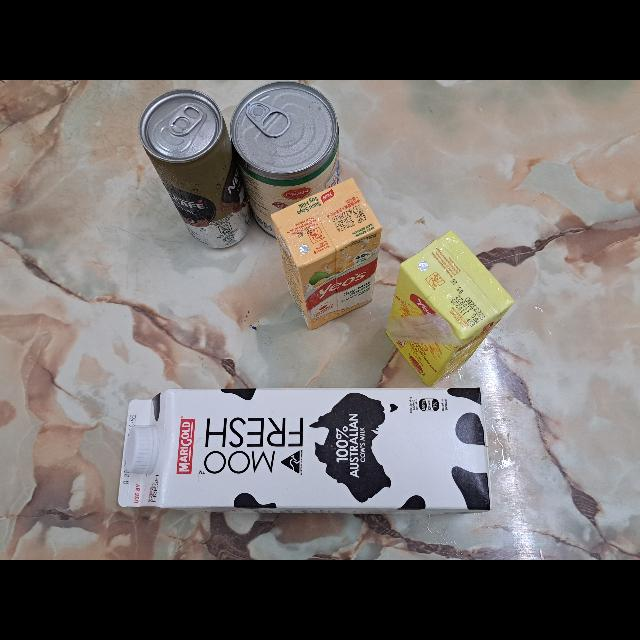aba de lata: (246, 100, 292, 136), (169, 104, 203, 136)
caixinha: (119, 386, 491, 514), (387, 230, 515, 386), (272, 176, 382, 330)
lata: (138, 88, 252, 250), (230, 82, 340, 238)
tampa plástica: (124, 426, 158, 474)
